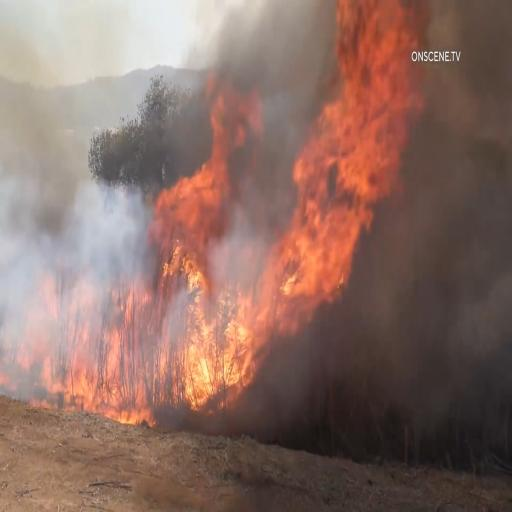fire: (255, 122, 362, 346), (150, 90, 256, 279), (27, 272, 160, 410), (165, 277, 251, 421)
smoke: (0, 25, 79, 246), (418, 150, 500, 358)
